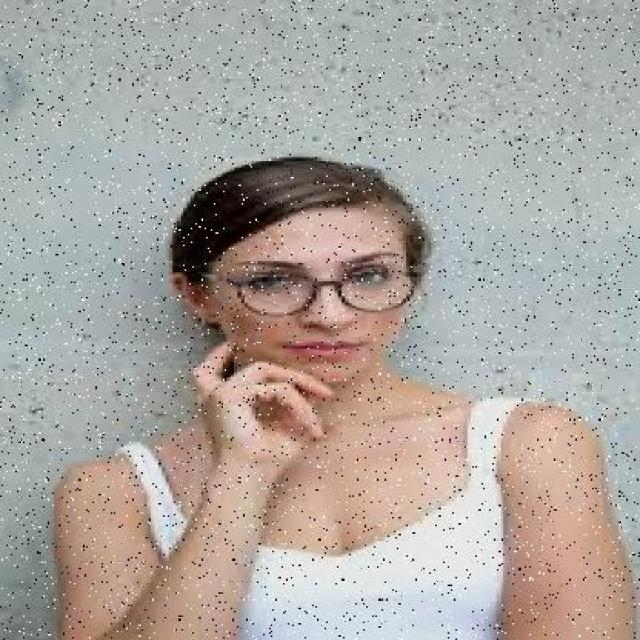glasses: (225, 249, 424, 326)
